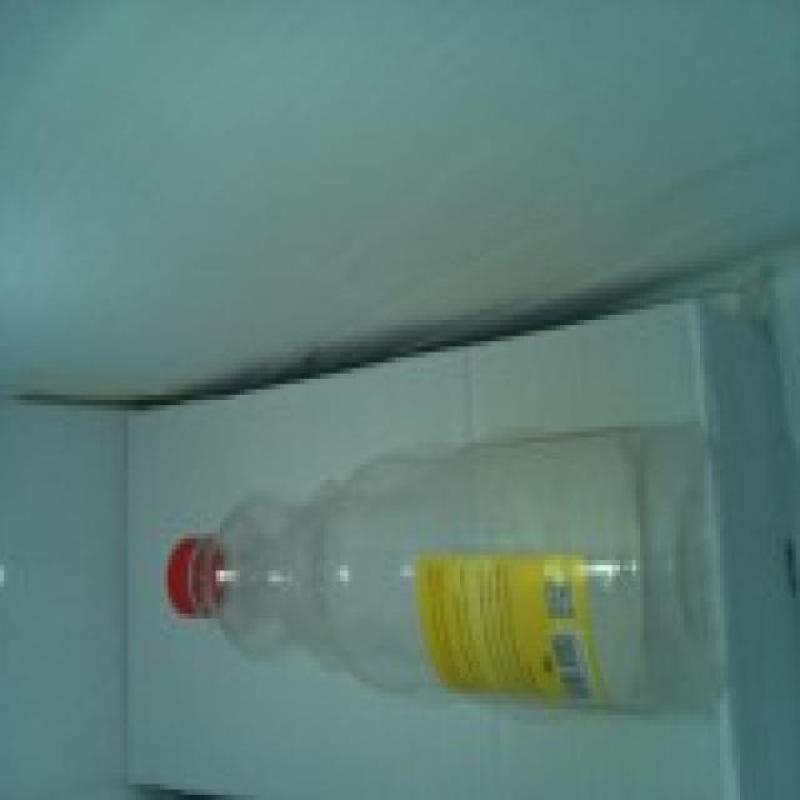botella: (167, 422, 722, 718)
